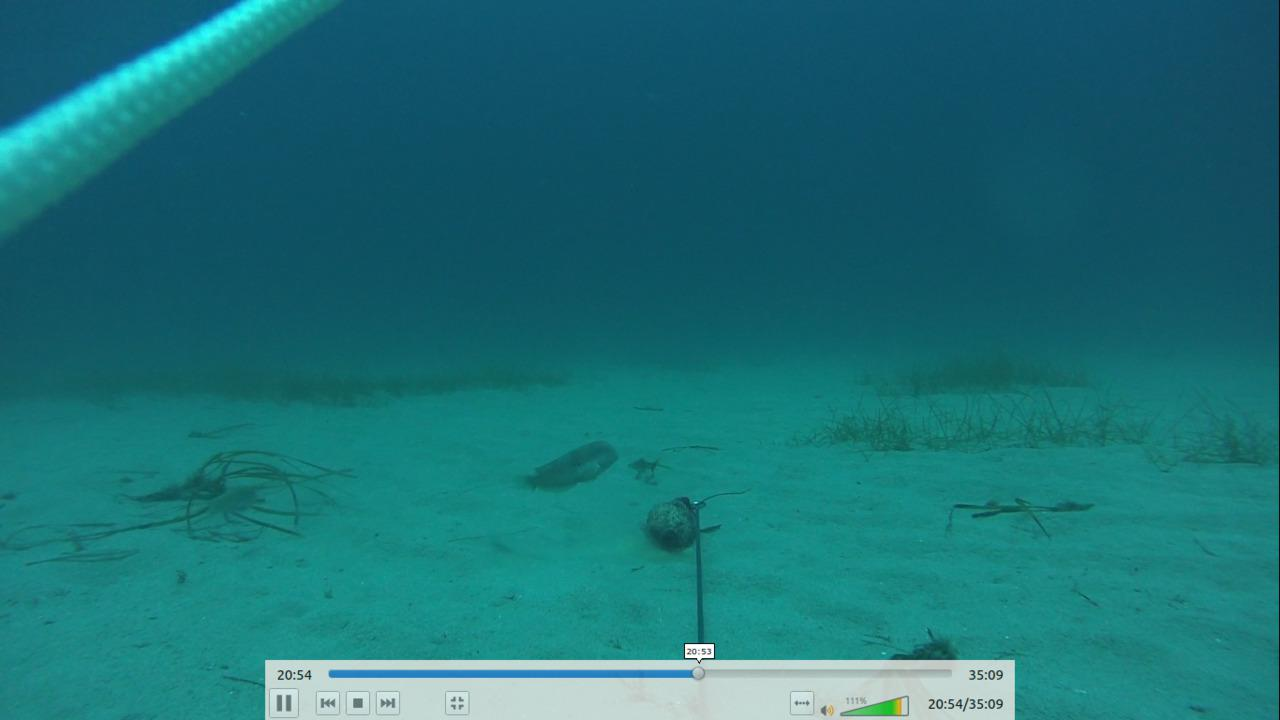raor: (520, 437, 619, 493), (204, 483, 262, 520)
